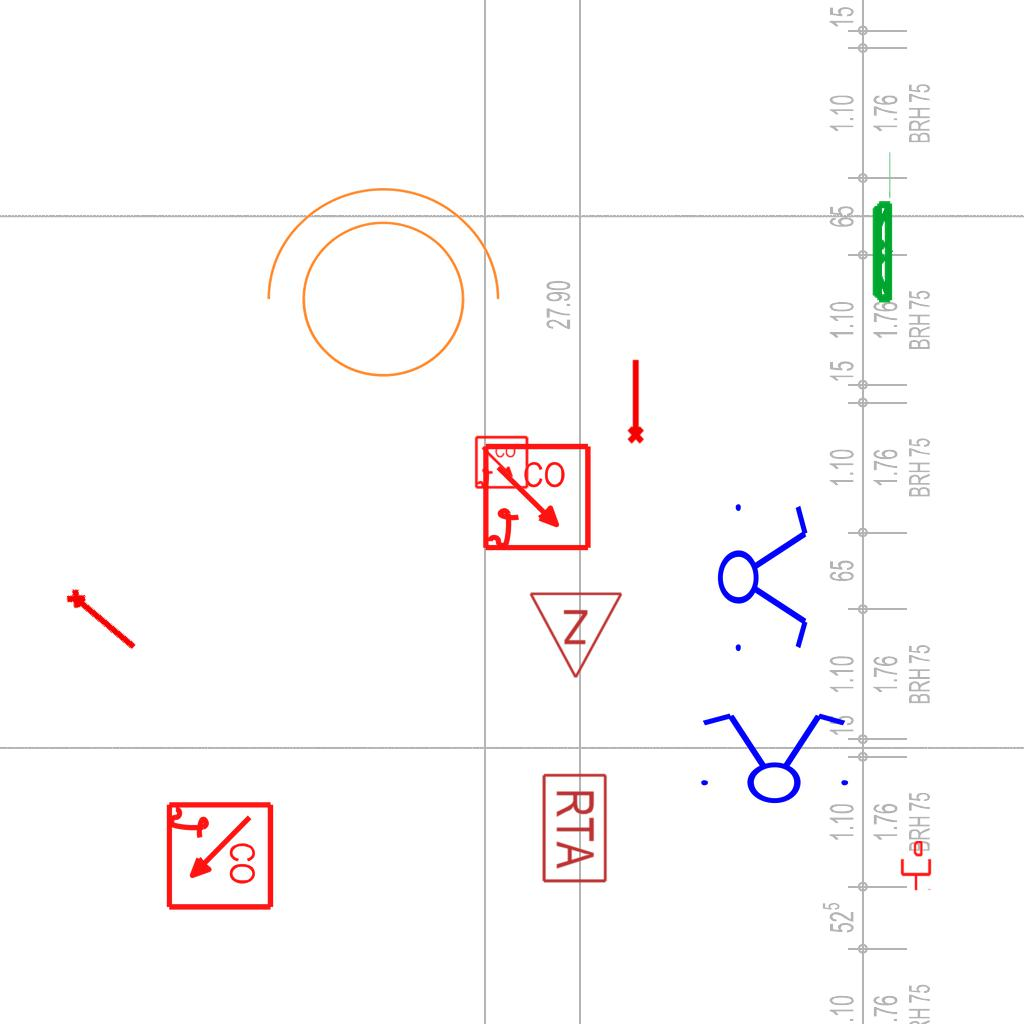ASR_Ansaugoeffnung: (61, 582, 145, 657), (623, 357, 646, 445)
Datenanschluss_einfach: (899, 841, 933, 891)
ROA_Rauchmelder_optisch_mit_Signalgeber_(Sockelsirene): (162, 800, 275, 913), (481, 442, 594, 555), (474, 435, 530, 491)
Ruf-und_Abstelltaster: (540, 770, 609, 884)
Scheinwerfer_fuer_Alarmbeleuchtung: (245, 177, 509, 402)
Serienschalter: (689, 709, 857, 805), (716, 492, 812, 660)
Sicherheitsleuchte_Wandeinbau: (869, 147, 894, 306)
Zimmersignalleuchte: (528, 585, 626, 685)
